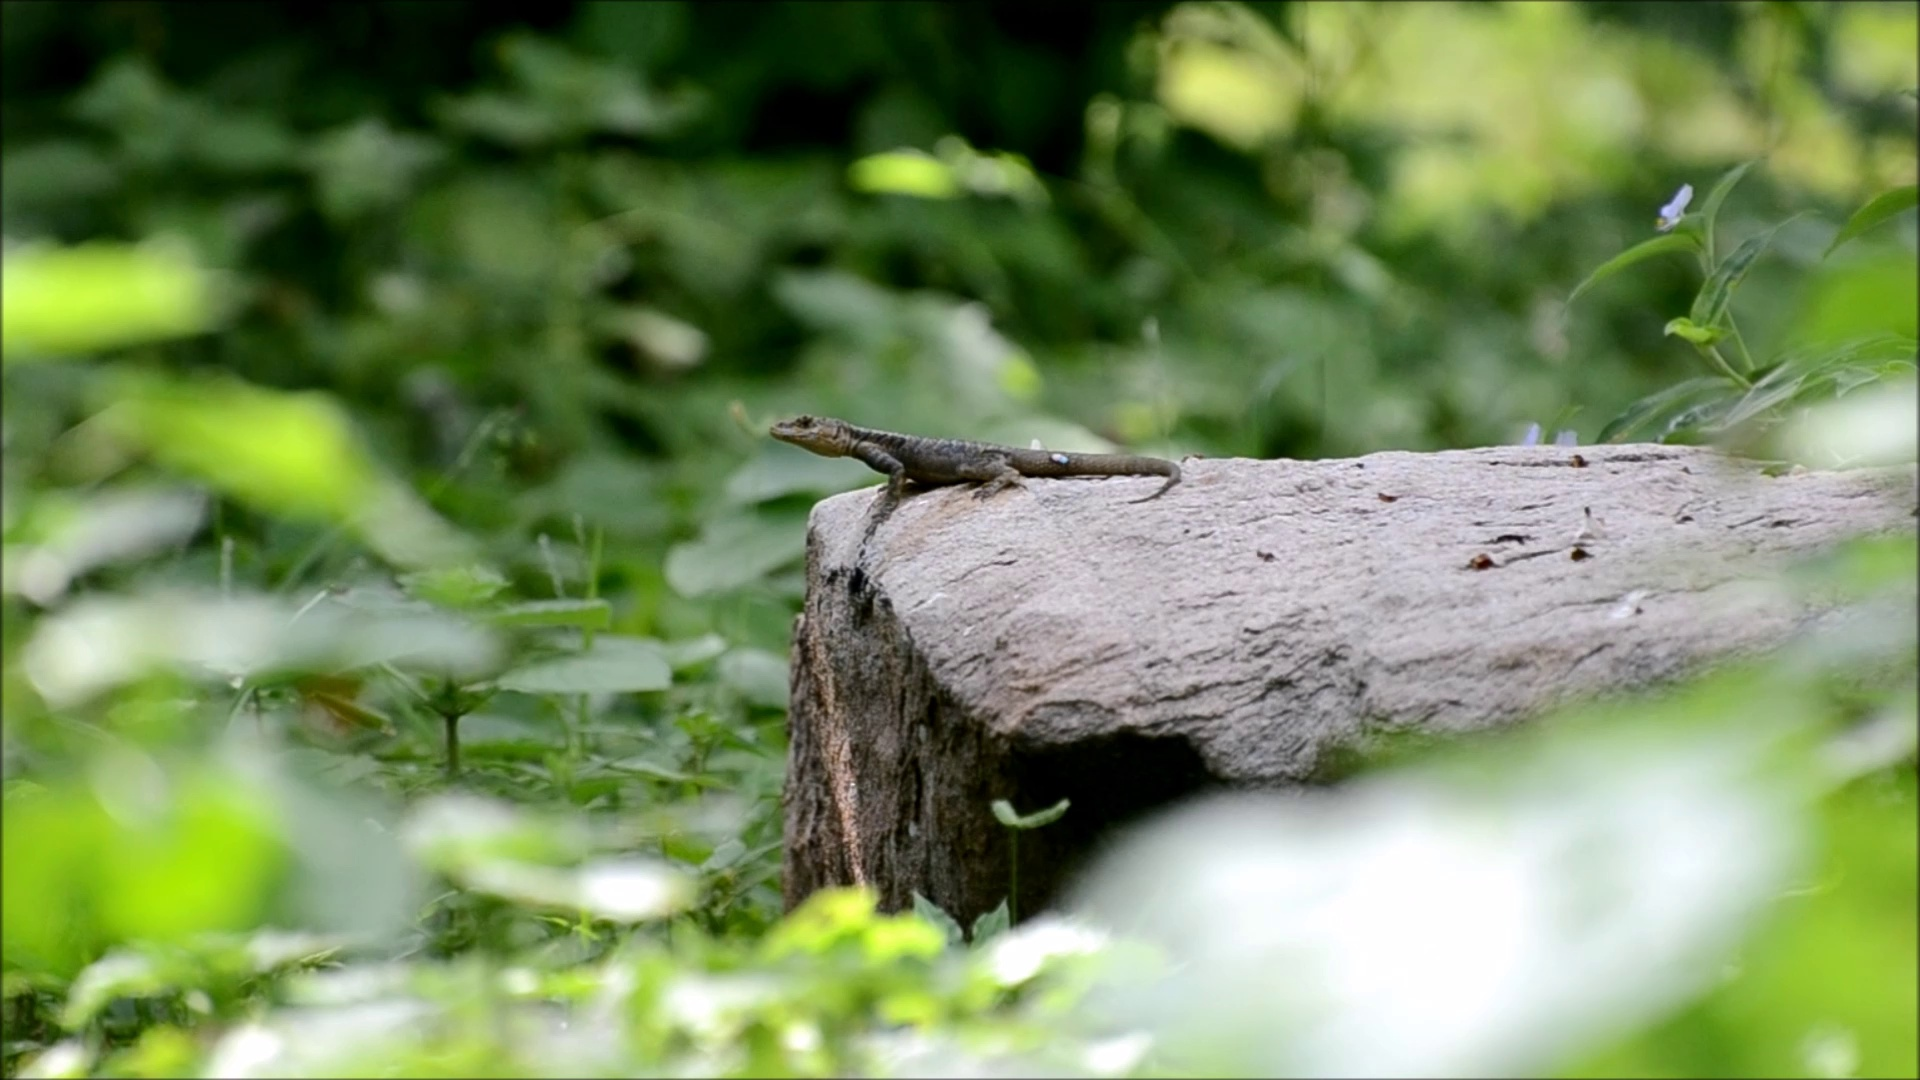body: (850, 424, 1181, 505)
head: (769, 413, 849, 459)
